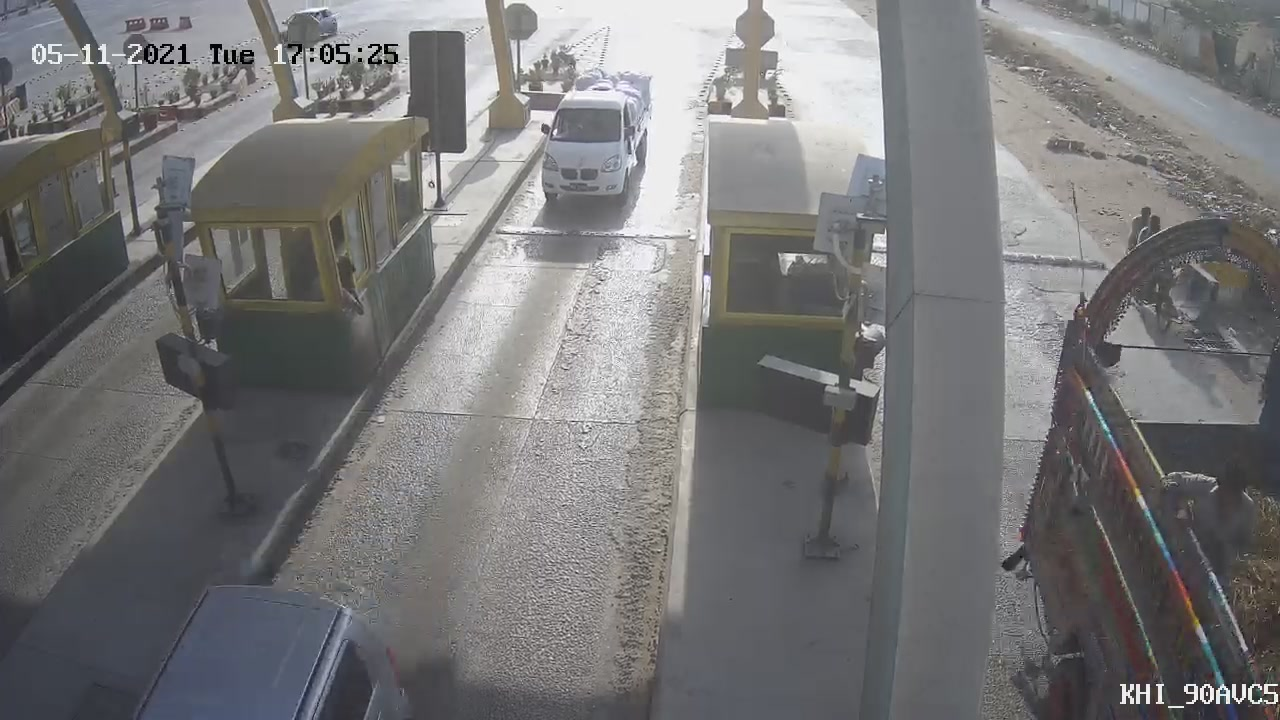F2: (512, 52, 674, 227)
